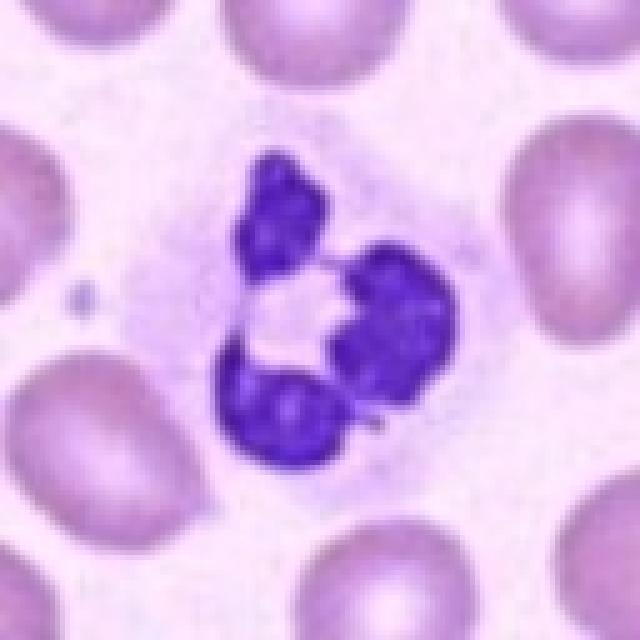neutro: (60, 67, 560, 585)
